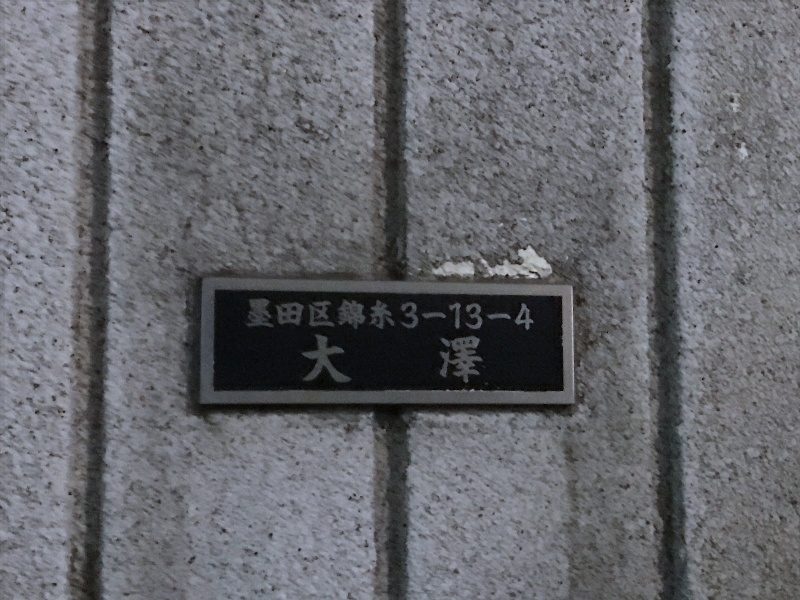text: (305, 334, 320, 384), (321, 334, 336, 384), (337, 334, 352, 384), (353, 334, 368, 384), (369, 334, 384, 384), (385, 334, 400, 384), (401, 334, 416, 384), (417, 334, 432, 384), (433, 334, 448, 384), (449, 334, 464, 384), (465, 334, 480, 384), (257, 298, 272, 332), (273, 298, 288, 332), (289, 298, 304, 332), (305, 298, 320, 332), (321, 298, 336, 332), (337, 298, 352, 332), (353, 298, 368, 332), (369, 298, 384, 332), (385, 298, 400, 332), (401, 298, 416, 332), (417, 298, 432, 332), (433, 298, 448, 332), (449, 298, 464, 332), (465, 298, 480, 332), (481, 298, 496, 332), (497, 298, 512, 332), (513, 298, 528, 332), (245, 298, 256, 332), (529, 298, 533, 332), (302, 334, 304, 384), (481, 334, 483, 384)
